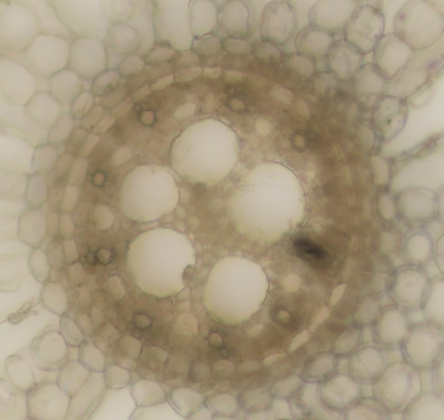lm: (226, 160, 310, 246), (170, 117, 243, 188), (124, 226, 196, 297), (199, 255, 267, 325), (119, 162, 179, 223)
